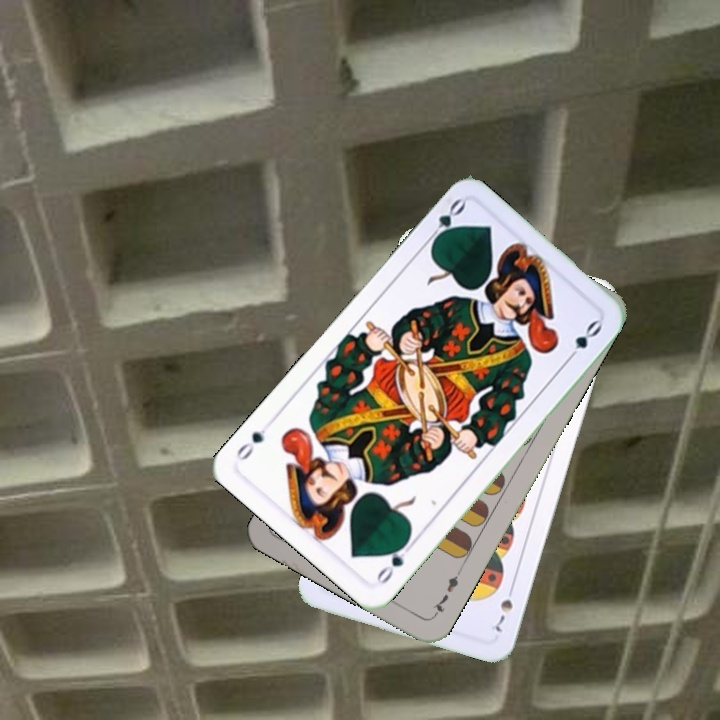E7: (428, 566, 465, 620)
GO: (422, 195, 468, 248), (372, 535, 417, 587)
S7: (491, 580, 517, 635)
